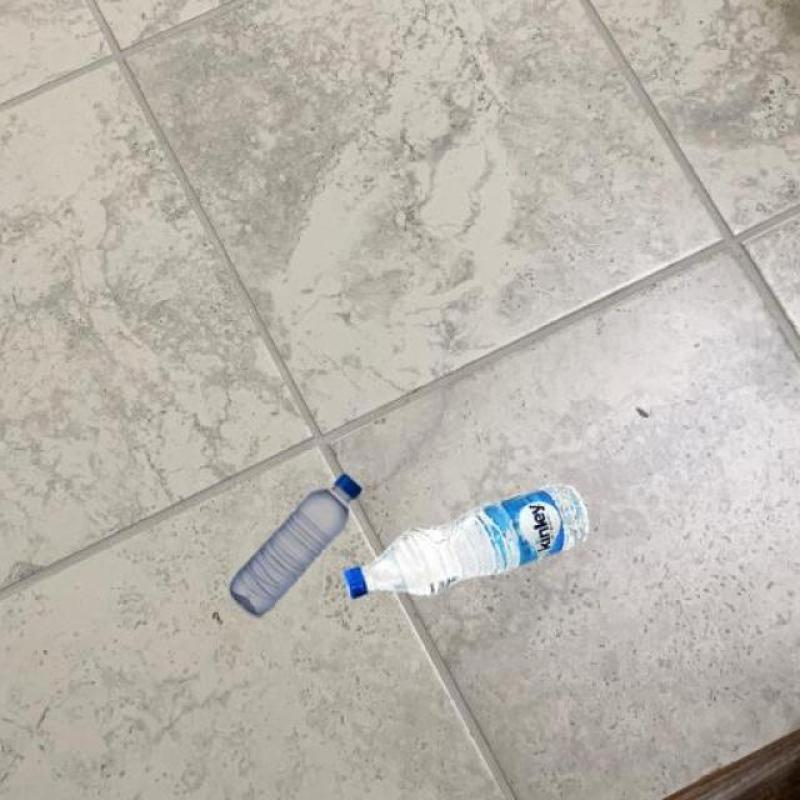botella: (344, 480, 588, 602), (230, 476, 360, 623)
